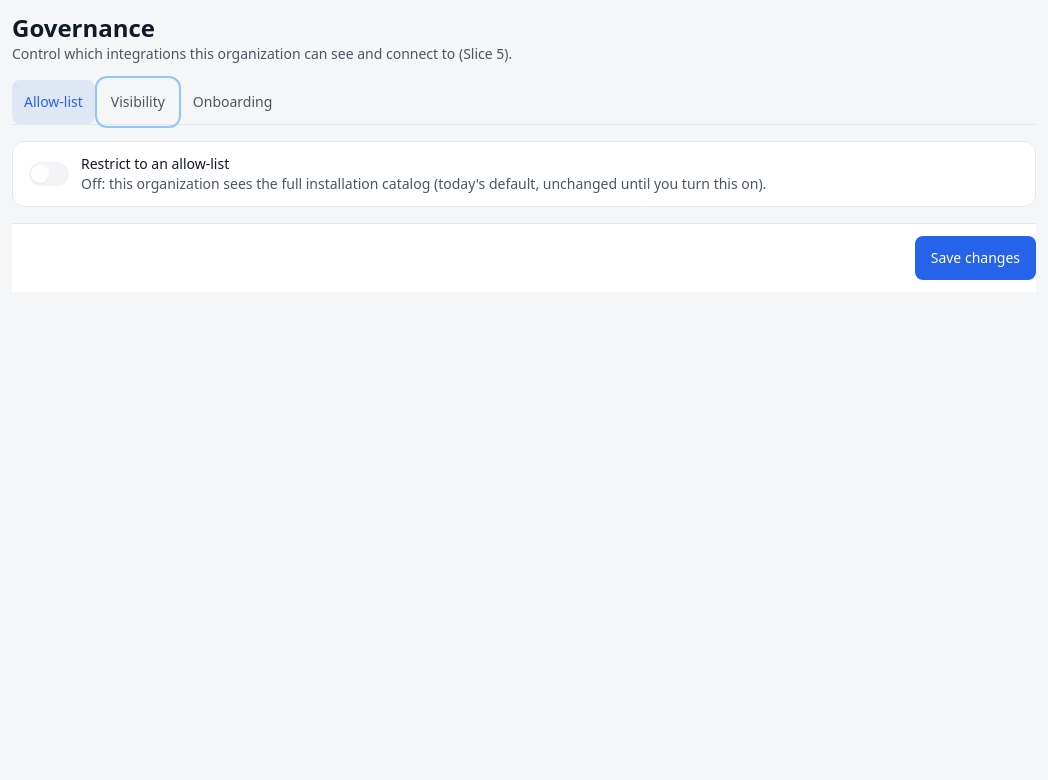
GovernancePage › the Visibility tab shows each integration's effective visibility as a color+icon+text badge, not color alone
Step 1. Click the tab "Visibility" → x=138, y=102, box x1=99 y1=80 x2=177 y2=124
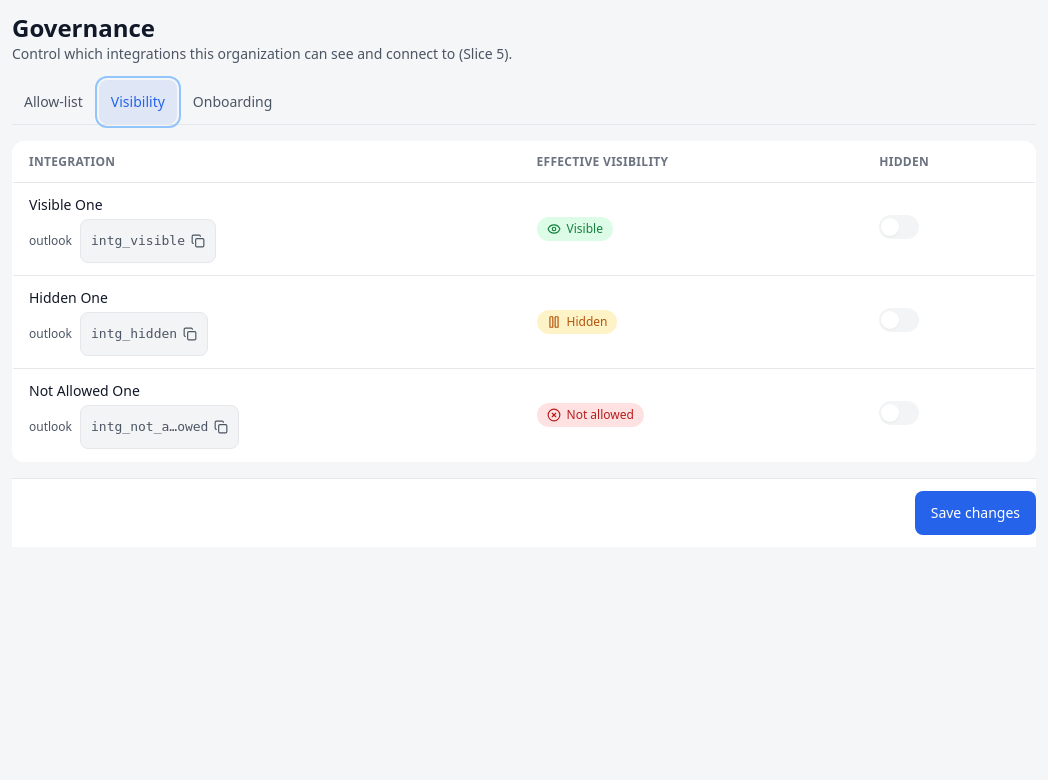
Now the text "Visible One" is shown, box x1=29 y1=195 x2=103 y2=214
Now the text "Visible" is shown, box x1=536 y1=217 x2=613 y2=241
Now the text "Not allowed" is shown, box x1=536 y1=403 x2=644 y2=427
